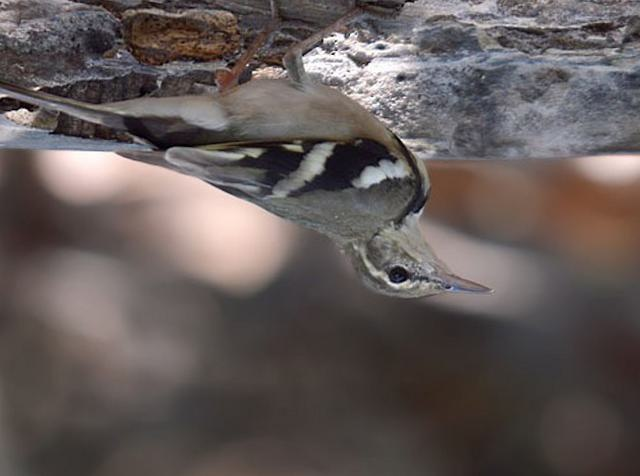wagtail: (31, 31, 503, 315)
